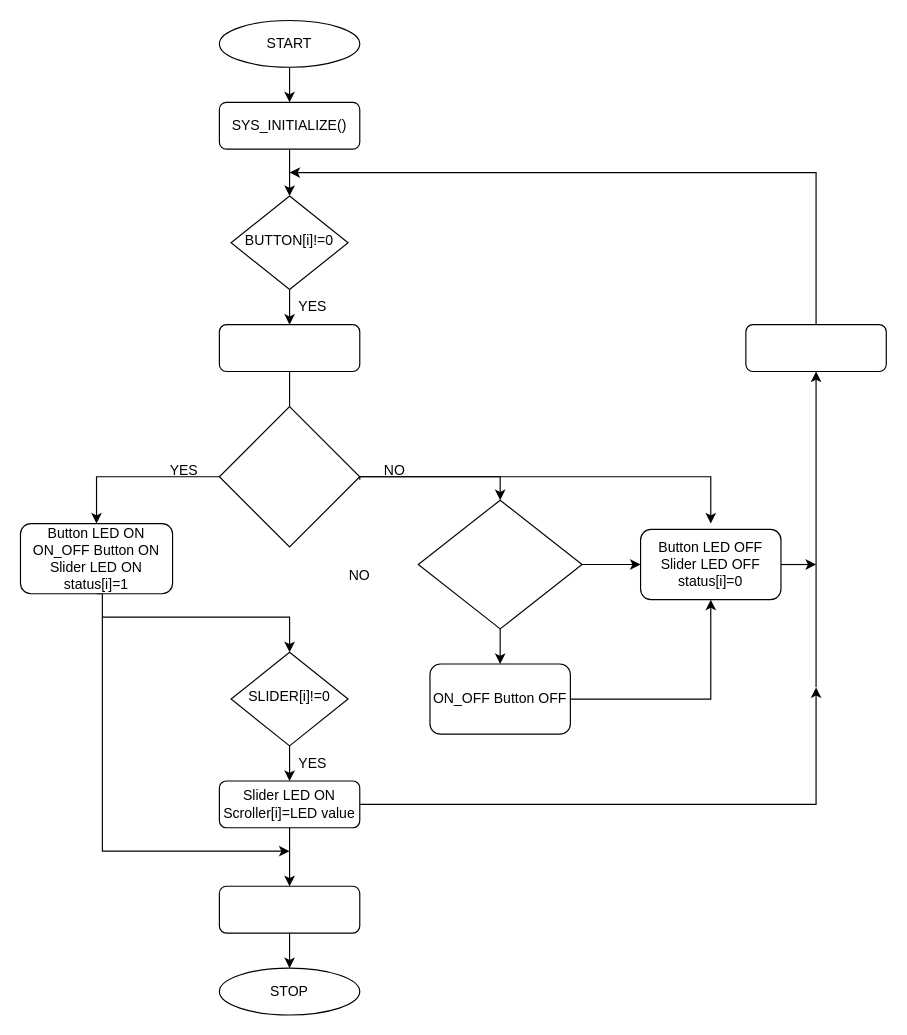
Image size: 907x1035. Some labels were removed from this diagram. The shapes that lost their labels are listed below. From the top down, each one's box as (x1, y1, x2, y2) in pixels, then its label:
(218, 324, 360, 371): prev[i]=current[i] current[i]=1
(745, 324, 886, 371): prev[i]=current[i]=0
(218, 405, 360, 547): (prev[i]=0 && current[i]=1) && status[i]=0
(417, 499, 582, 629): ON_OFF Button!=0
(218, 885, 360, 933): Send USART data to WBZ451
